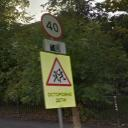speed_limit_40: (40, 12, 64, 40)
